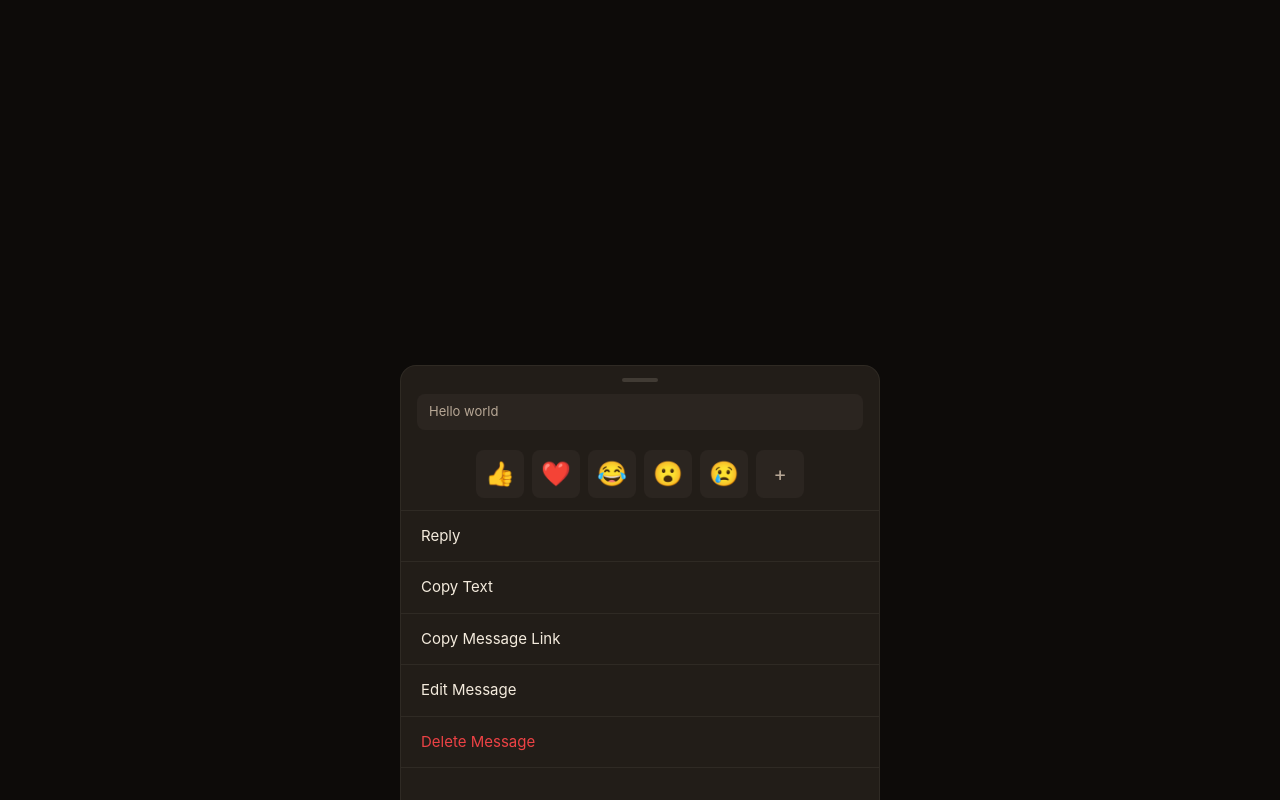
Scenario: MessageModal — delete confirmation › returns to action list when deletion cancelled
Step 1. Click the button with test id "modal-action-delete" → [478, 741], box [401, 716, 879, 768]
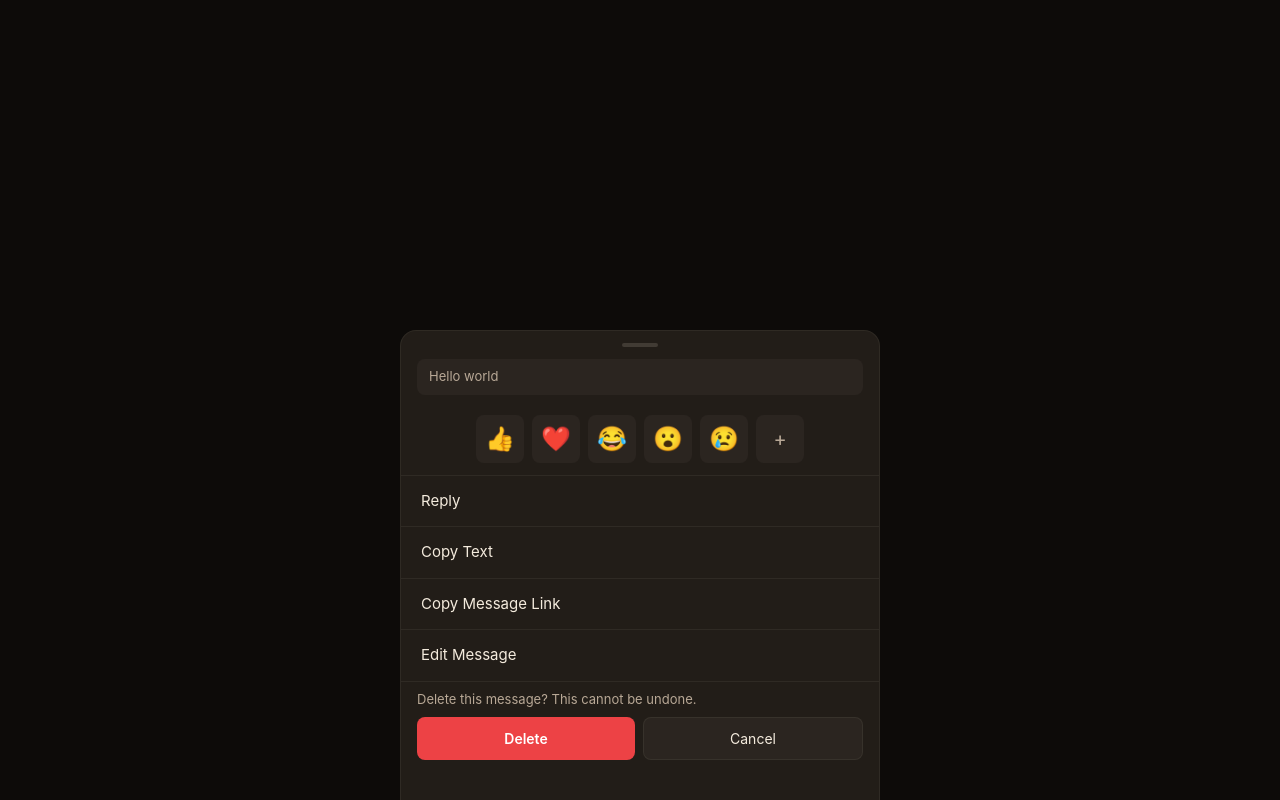
Step 2. Click the button with test id "modal-delete-cancel" → [753, 738], box [643, 717, 863, 760]
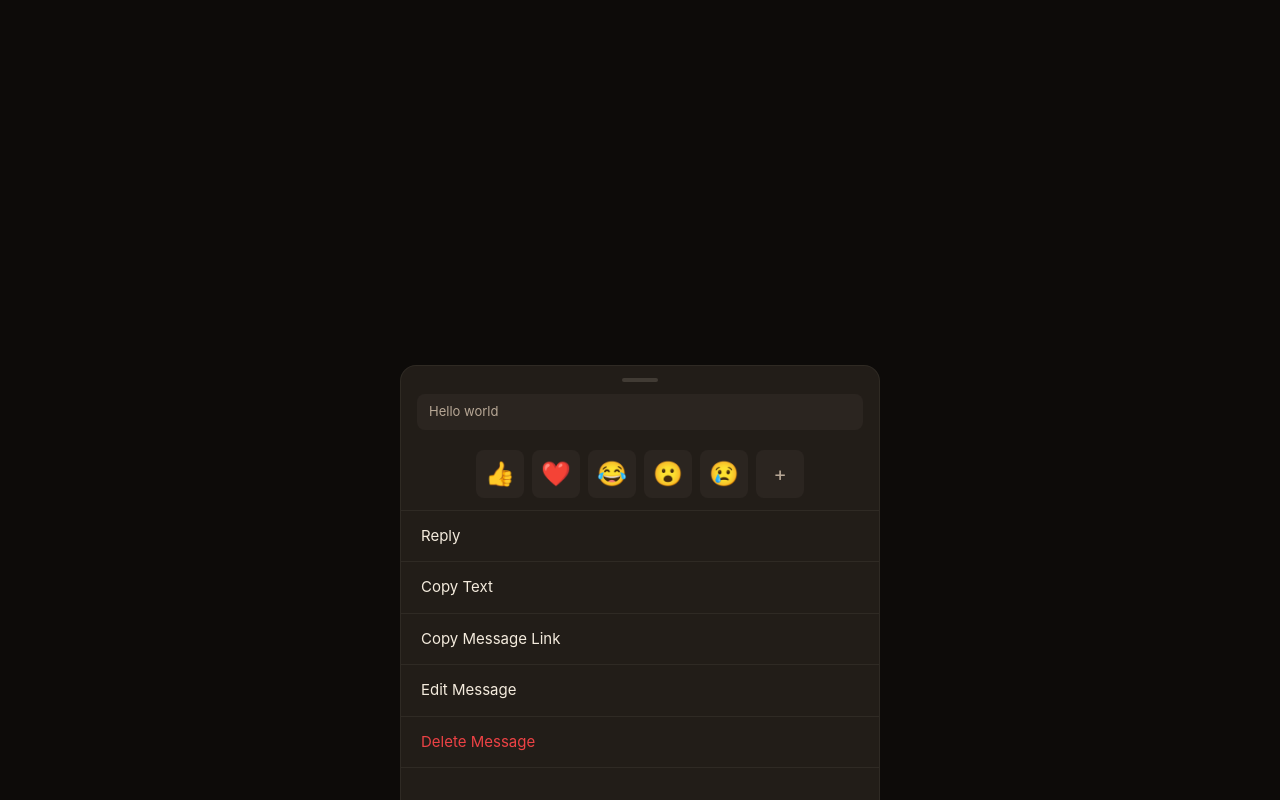
Expected: the button with test id "modal-delete-confirm" is gone
Expected: the button with test id "modal-action-delete" is shown, [401, 716, 879, 768]
